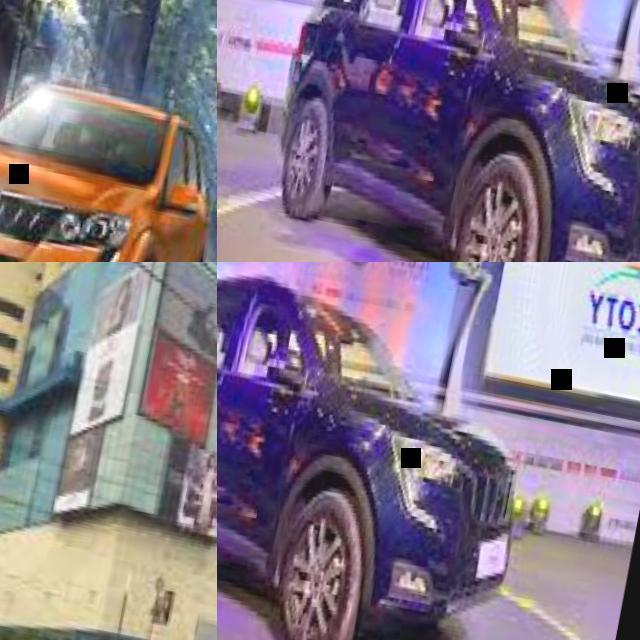car: (281, 0, 573, 261)
